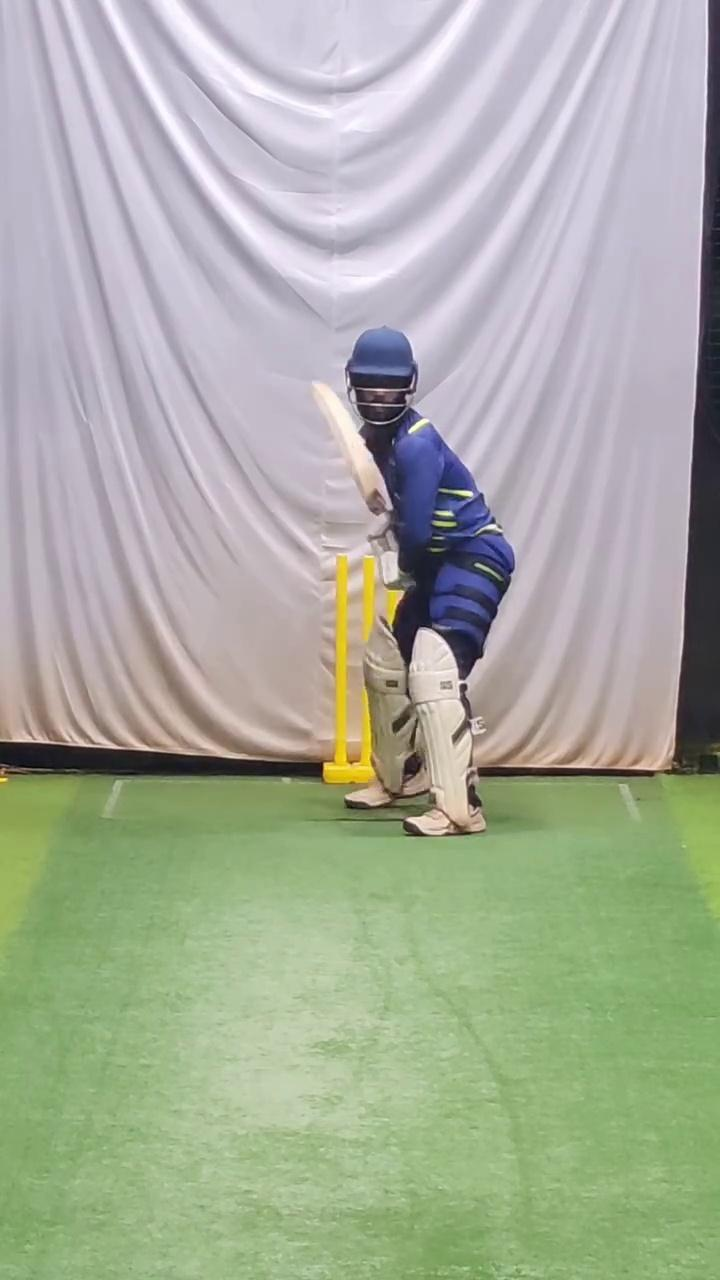bat: (300, 368, 397, 520)
